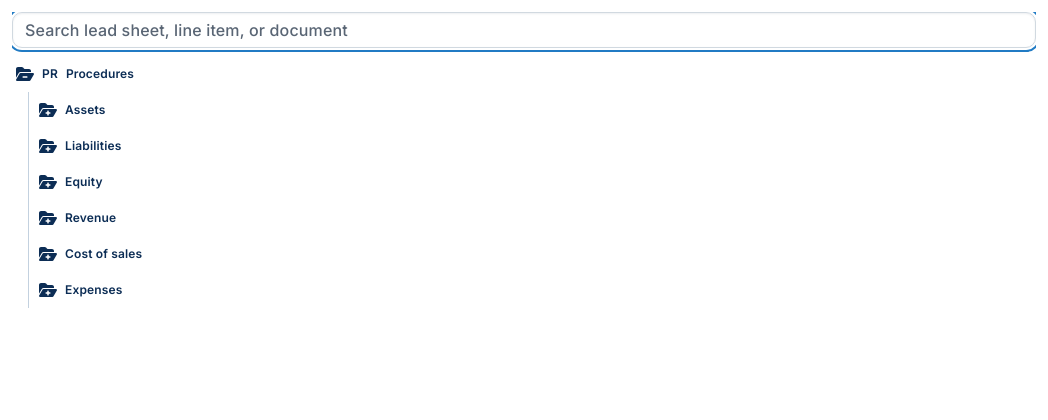
Test: Engagement and Lead sheet link pickers › allows collapsing and re-expanding lead-sheet line items while searching in Lead sheet mode
This screenshot has width=1048, height=420.
Type "Accounts receivable" into the field named "Search lead sheets".
click(524, 30); type("Accounts receivable")  # box 12,12 -> 1036,48
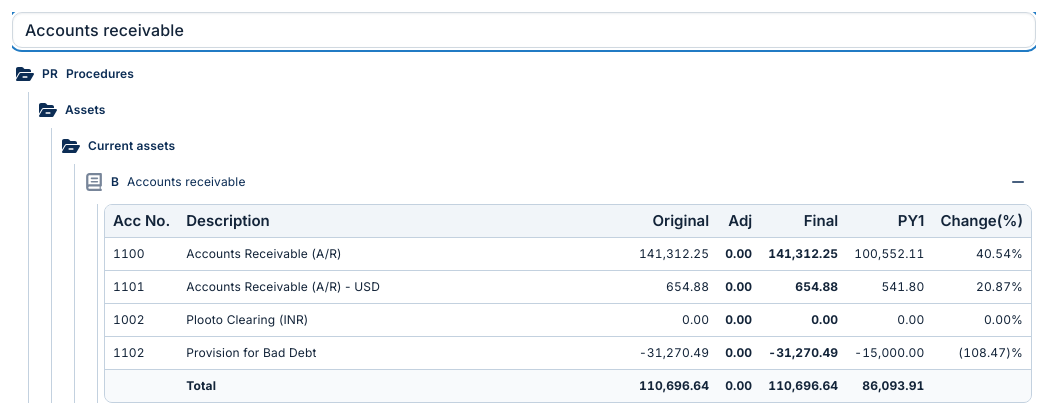
Now the column heading "Acc No." is shown, box 105,205 -> 178,238
Now the column heading "Change(%)" is shown, box 932,205 -> 1031,238
Click the button named "Hide line items".
click(1018, 182)  # box 1004,168 -> 1032,196
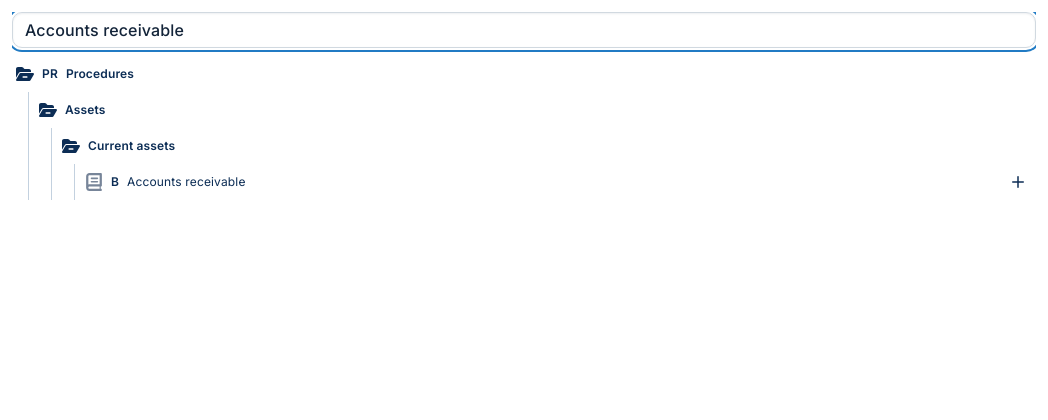
Now the column heading "Change(%)" is gone
Click the button named "Show line items".
click(1018, 182)  # box 1004,168 -> 1032,196
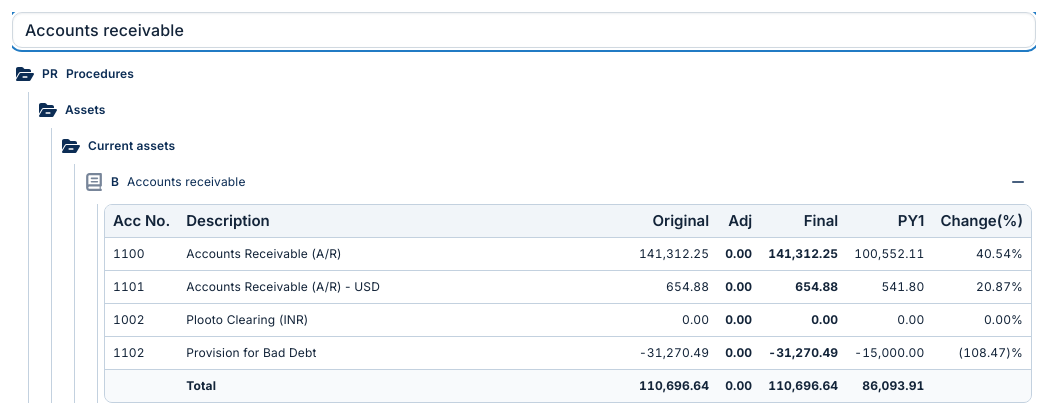
Now the button named "Accounts Receivable (A/R) · PY1: 100,552.11" is shown, box 846,238 -> 932,270
